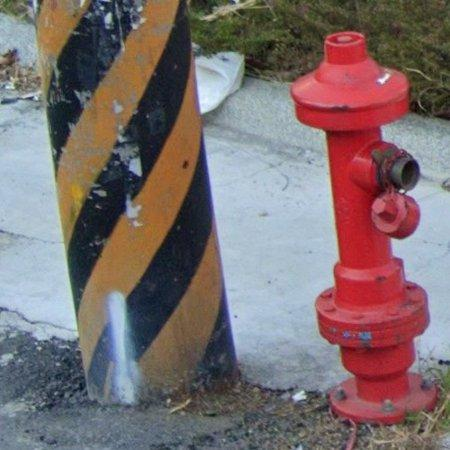a fire hydrant: (291, 31, 439, 424)
